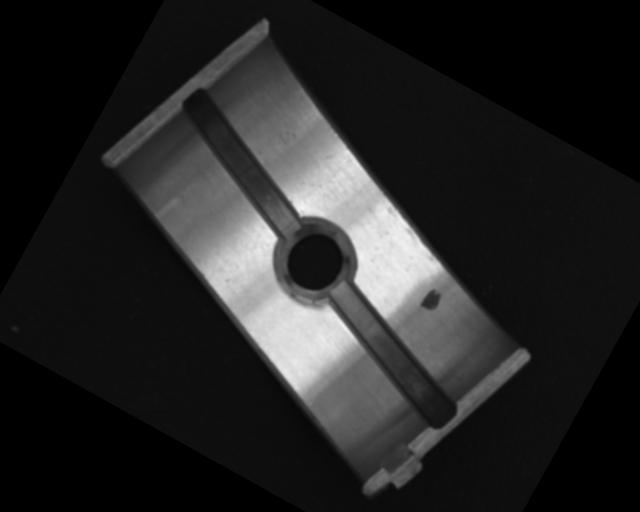blot: (417, 285, 445, 317)
gap: (147, 84, 336, 245), (299, 274, 485, 432)
hole: (265, 214, 361, 314)
